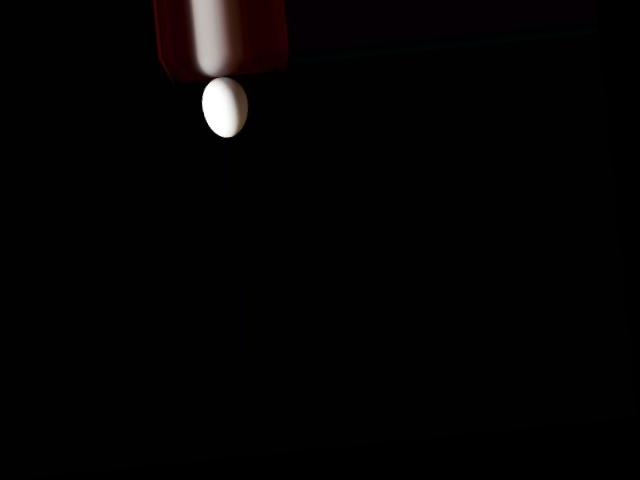egg: (199, 74, 249, 139)
